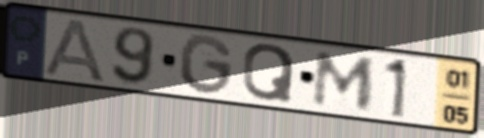1: (382, 58, 409, 121)
9: (108, 24, 156, 88)
A: (41, 16, 108, 85)
G: (178, 33, 236, 98)
M: (309, 49, 379, 113)
Q: (240, 42, 298, 105)
